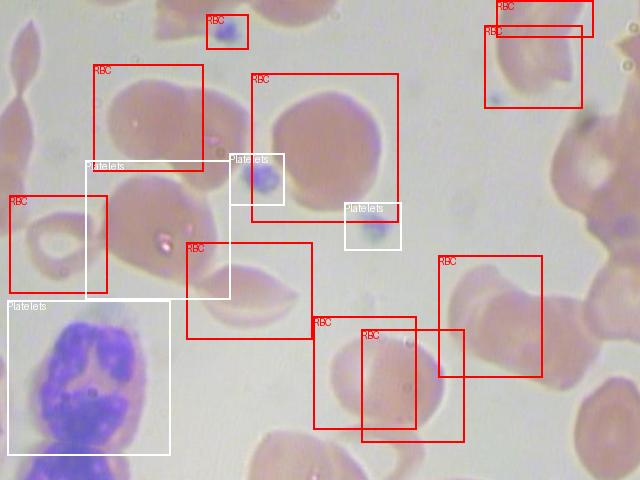Platelets: (7, 300, 170, 455), (85, 160, 230, 299), (229, 153, 284, 205), (344, 202, 401, 250)
RBC: (251, 73, 398, 222), (438, 255, 542, 377), (186, 242, 312, 339), (93, 64, 203, 171), (313, 316, 416, 429), (361, 329, 464, 442), (9, 195, 107, 293), (484, 25, 582, 108), (496, 0, 593, 37), (206, 14, 248, 49)
